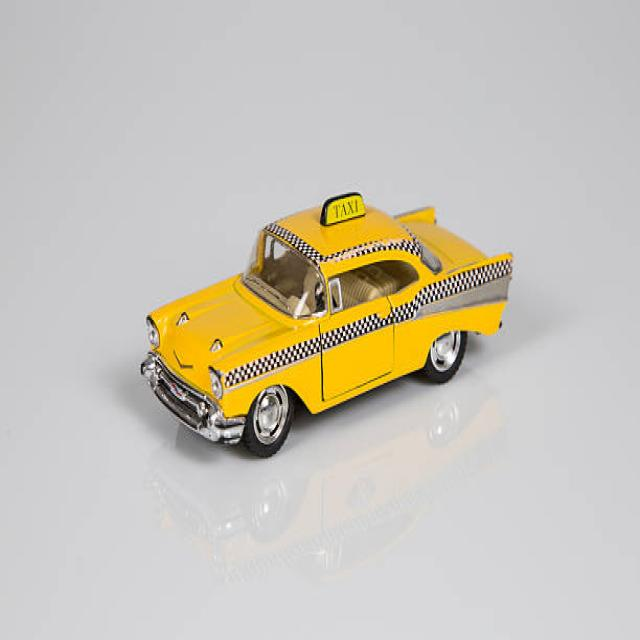Car: (139, 189, 514, 457)
